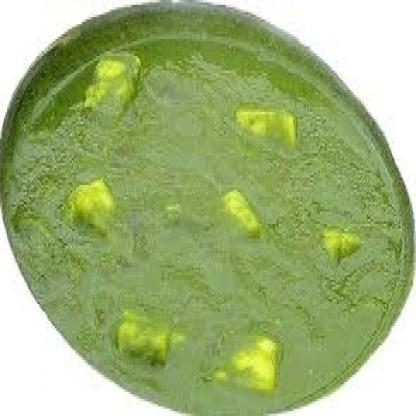palak_paneer: (2, 34, 406, 416)
